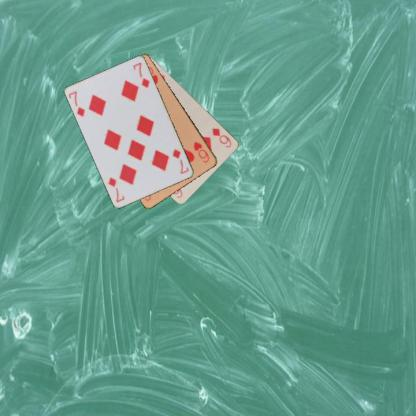6d: (210, 125, 233, 149)
6h: (191, 139, 211, 164)
7d: (66, 89, 86, 118), (171, 146, 190, 175)
